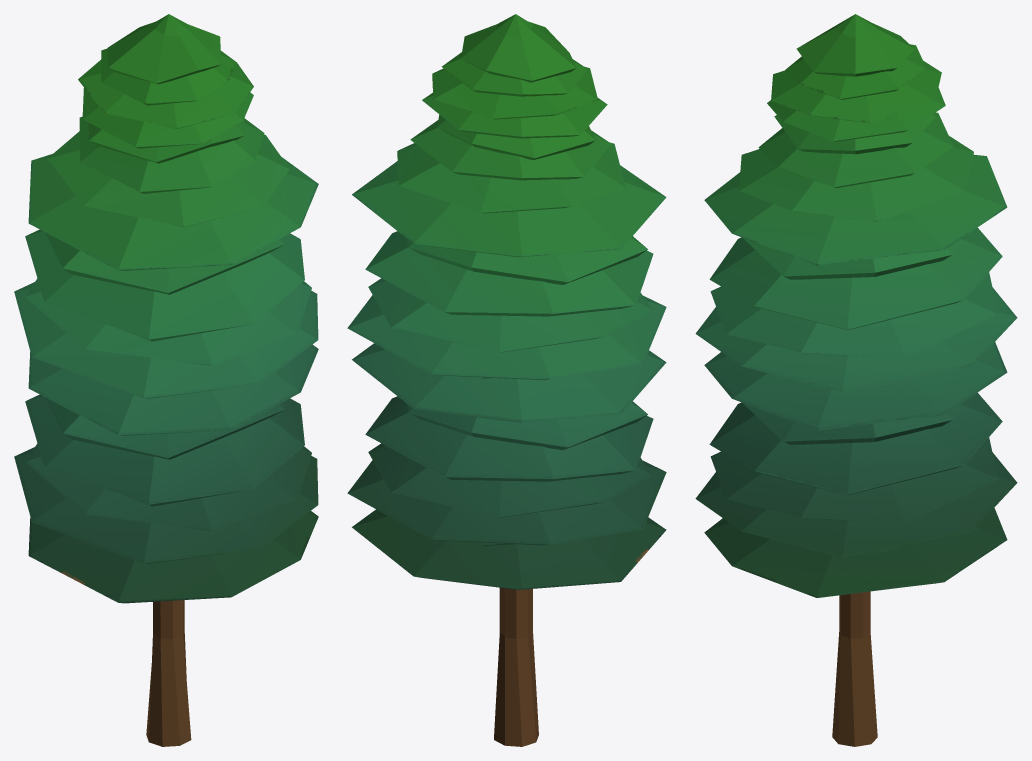
Rendered from PineTree_2.fbx.
3 views of the same model, side by side, from view 1: azimuth 30°, elevation 25°; view 2: azimuth 150°, elevation 25°; view 3: azimuth 270°, elevation 25° (orthographic).
Parts seen in each view (by area): view 1: PineTree_2; view 2: PineTree_2; view 3: PineTree_2.
Boxes of the visible parts, x1,y1,x2,y2 form: PineTree_2: (14,14,318,746); PineTree_2: (347,14,666,746); PineTree_2: (695,14,1017,746).
Size of the model in its own units: 254 by 642 by 259.
Materials: 1 (1 with a texture image).
